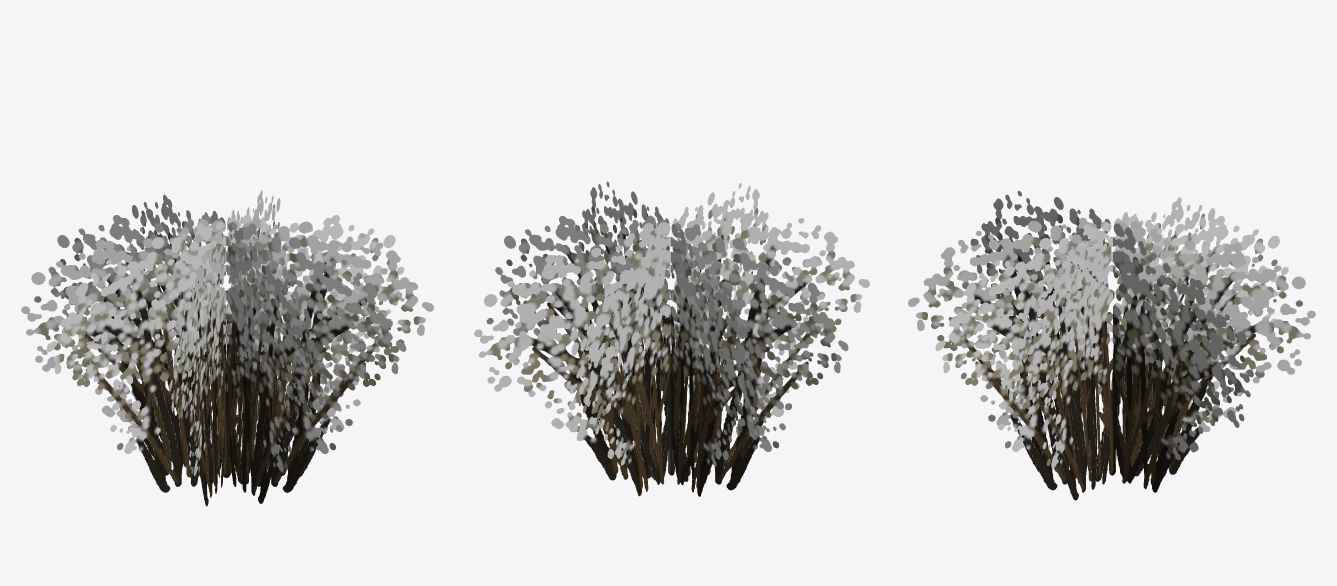
File: ARC0710056.fbx
3 renders of one model, left to right at view 1: azimuth 30°, elevation 25°; view 2: azimuth 150°, elevation 25°; view 3: azimuth 270°, elevation 25°, orthographic.
Visible parts, largest first — view 1: smARC0710056; view 2: smARC0710056; view 3: smARC0710056.
Boxes of the visible parts, x1,y1,x2,y2 form: smARC0710056: (21,190,433,506); smARC0710056: (474,181,869,496); smARC0710056: (908,191,1315,500).
Size of the model in its own units: 46.32 by 46.32 by 46.31.
Materials: 1 (1 with a texture image).
